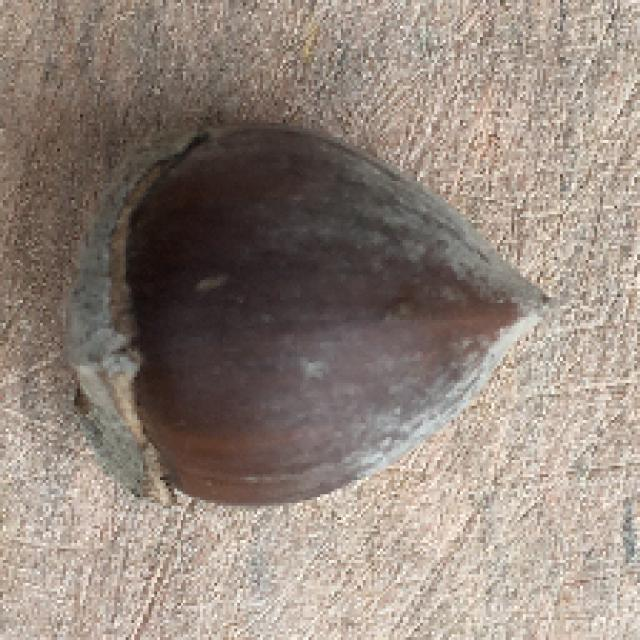damagedHazelnut: (43, 107, 560, 499)
